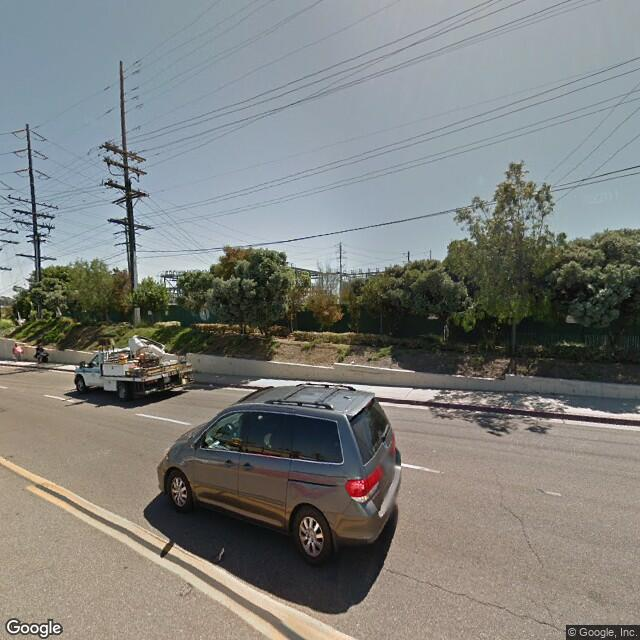litter: (215, 545, 229, 560), (209, 382, 215, 388), (348, 360, 357, 364)
